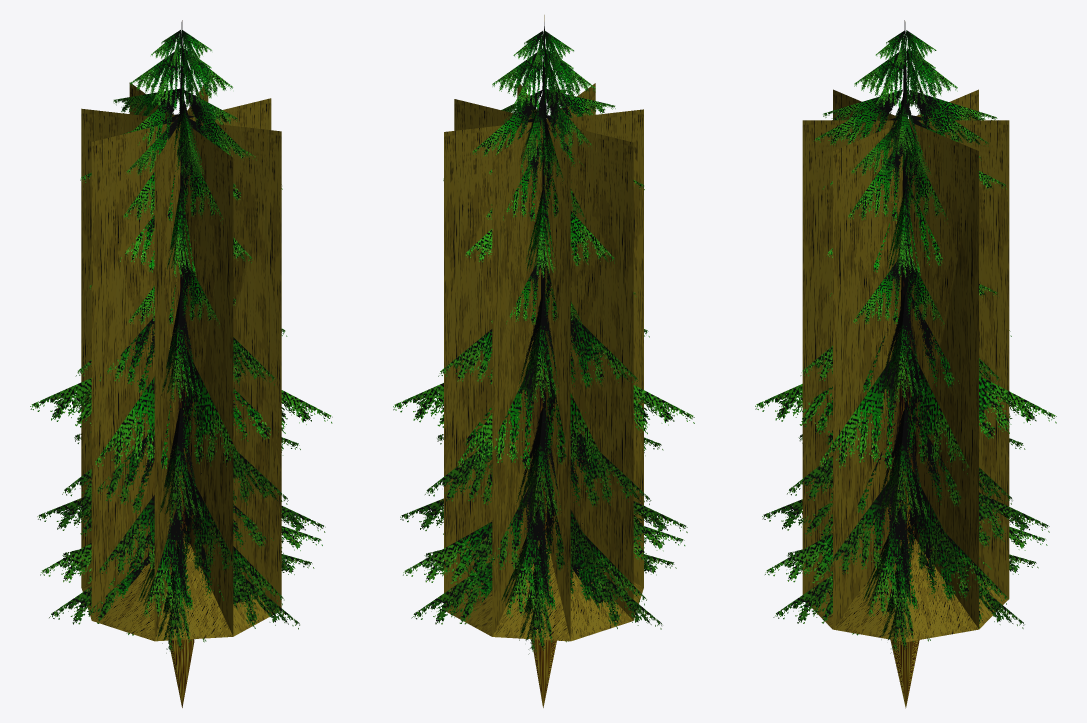
The model's file is fijnspar_3.fbx.
The picture shows the model from 3 angles, left to right: view 1: azimuth 30°, elevation 25°; view 2: azimuth 150°, elevation 25°; view 3: azimuth 270°, elevation 25°; orthographic projection.
Visible parts, largest first — view 1: fijnspar_3; view 2: fijnspar_3; view 3: fijnspar_3.
Boxes of the visible parts, x1=… form: fijnspar_3: x1=30, y1=20, x2=332, y2=707; fijnspar_3: x1=393, y1=15, x2=694, y2=707; fijnspar_3: x1=755, y1=20, x2=1056, y2=708.
Bounding box in the file's own units: 958 × 2288 × 996.
